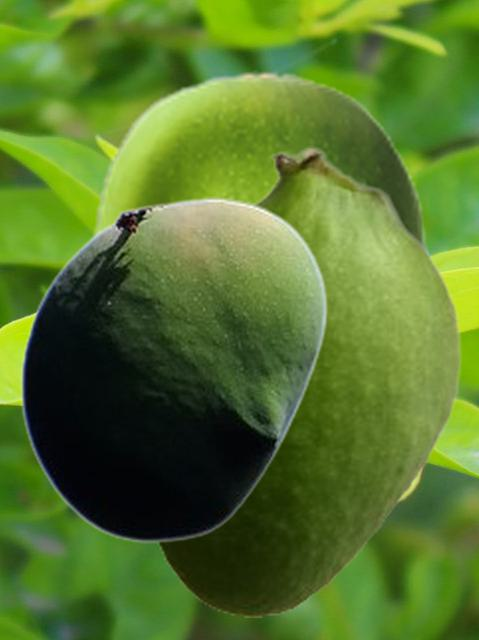green_mango: (152, 145, 461, 616), (19, 196, 328, 542), (90, 70, 427, 248)
